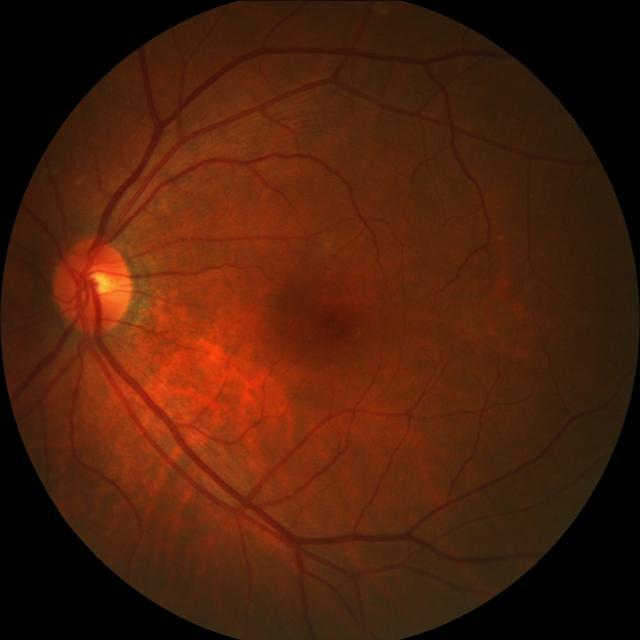OC: (88, 271, 114, 293)
OD: (53, 238, 136, 334)
